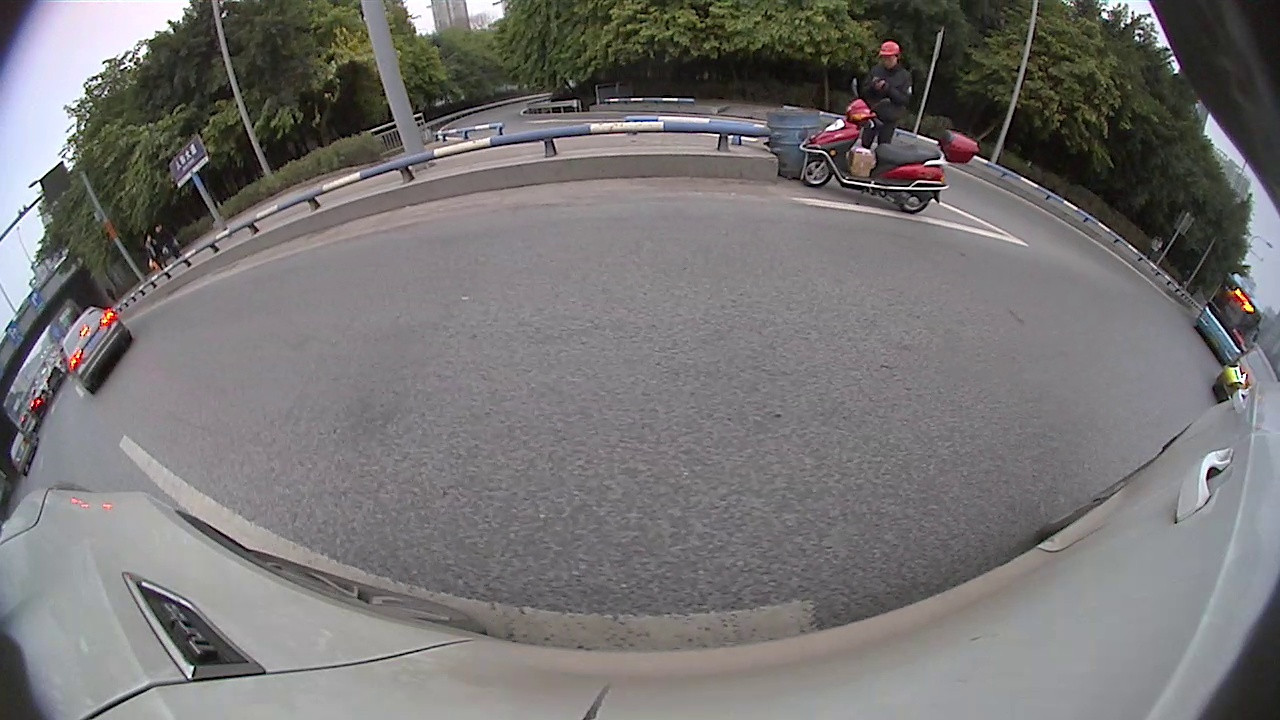car: (2, 209, 272, 466), (217, 206, 335, 274), (573, 140, 665, 214), (445, 166, 527, 208), (654, 153, 706, 195), (538, 150, 588, 193)
front: (220, 261, 267, 315), (309, 228, 332, 255), (518, 181, 526, 199)
rear: (494, 186, 505, 204)
